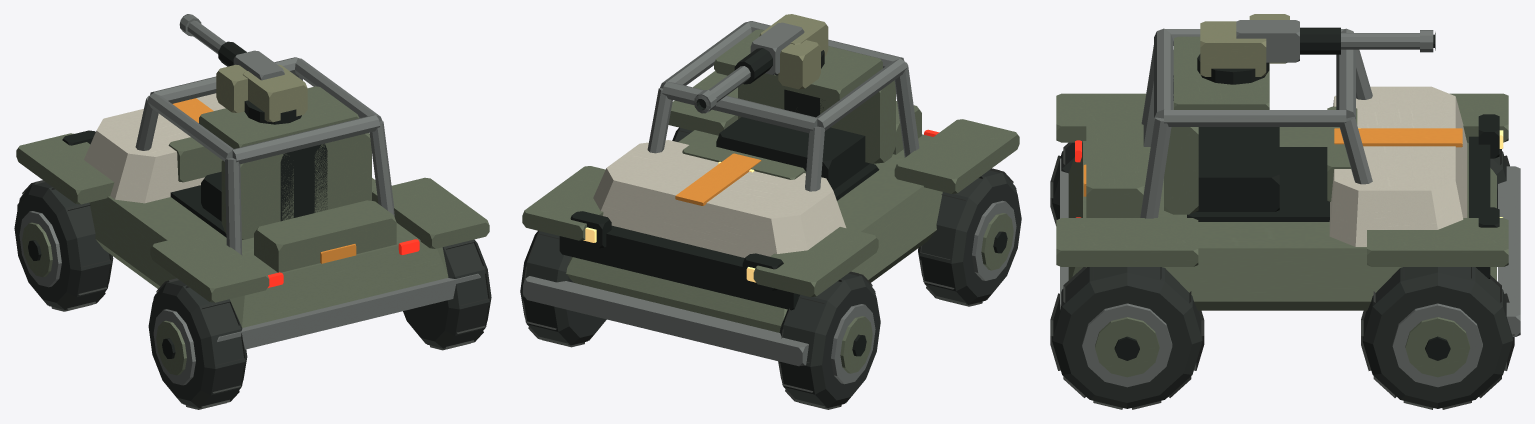
File: buggy.glb
3 renders of one model, left to right at view 1: azimuth 30°, elevation 25°; view 2: azimuth 150°, elevation 25°; view 3: azimuth 270°, elevation 25°, orthographic. The views are drawn at different scales.
Visible parts, largest first — view 1: buggy_body, buggy_wheel_L1, buggy_wheel_L2, buggy_wheel_R1, buggy_mg, buggy_mount; view 2: buggy_body, buggy_wheel_L1, buggy_wheel_L2, buggy_mg, buggy_wheel_R2, buggy_mount; view 3: buggy_body, buggy_wheel_R1, buggy_wheel_R2, buggy_mg, buggy_mount, buggy_wheel_L1, buggy_wheel_L2.
Part boxes in pixels (left/top/right/bottom): buggy_body: left=16, top=57, right=489, bottom=349; buggy_wheel_L1: left=148, top=278, right=247, bottom=409; buggy_wheel_L2: left=14, top=180, right=113, bottom=311; buggy_wheel_R1: left=403, top=239, right=491, bottom=350; buggy_mg: left=179, top=14, right=284, bottom=112; buggy_mount: left=243, top=64, right=307, bottom=124; buggy_body: left=522, top=21, right=1019, bottom=366; buggy_wheel_L1: left=918, top=168, right=1021, bottom=306; buggy_wheel_L2: left=778, top=271, right=880, bottom=409; buggy_mg: left=694, top=22, right=820, bottom=113; buggy_wheel_R2: left=520, top=230, right=606, bottom=347; buggy_mount: left=759, top=14, right=828, bottom=75; buggy_body: left=1056, top=28, right=1520, bottom=336; buggy_wheel_R1: left=1050, top=267, right=1204, bottom=409; buggy_wheel_R2: left=1361, top=267, right=1514, bottom=409; buggy_mg: left=1236, top=14, right=1435, bottom=63; buggy_mount: left=1197, top=21, right=1269, bottom=84; buggy_wheel_L1: left=1050, top=142, right=1074, bottom=225; buggy_wheel_L2: left=1468, top=142, right=1509, bottom=208.
Bounding box in the file's own units: 0.4697 × 0.3893 × 0.5413.
Materials: 1 (1 with a texture image).
